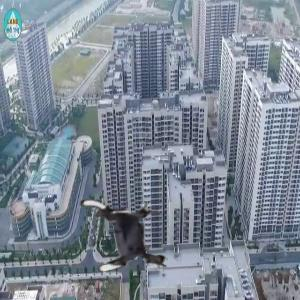drone: (78, 188, 173, 283)
